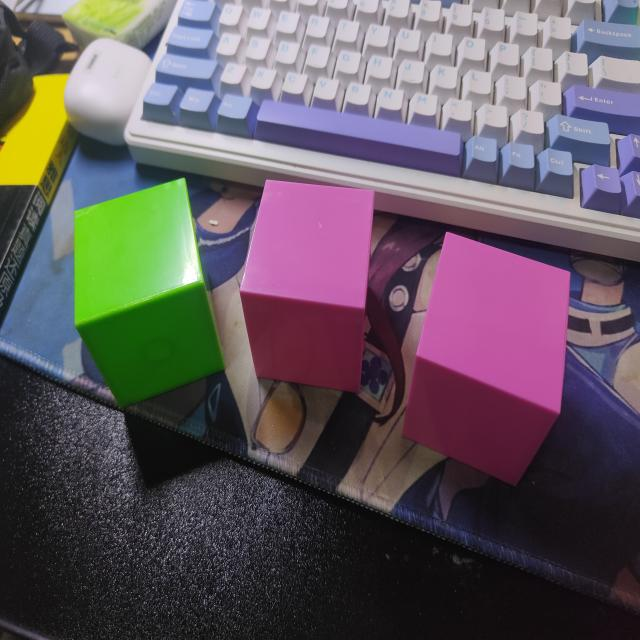green: (71, 177, 222, 411)
pink: (401, 231, 572, 489), (240, 181, 376, 391)
